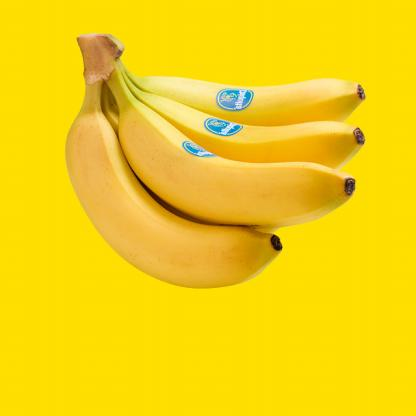banana: (56, 110, 284, 292), (107, 96, 364, 236), (113, 72, 371, 174), (114, 67, 375, 127)
